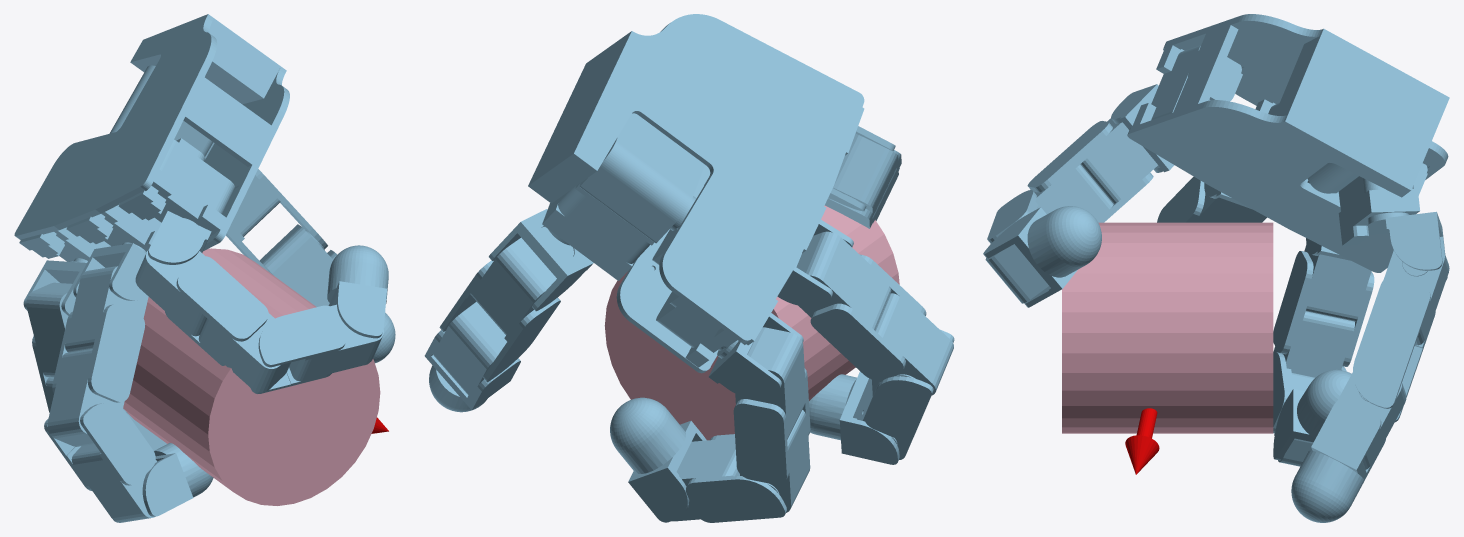
The picture shows the model from 3 angles, left to right: view 1: azimuth 30°, elevation 25°; view 2: azimuth 150°, elevation 25°; view 3: azimuth 270°, elevation 25°; orthographic projection. The views are drawn at different scales.
Parts seen in each view (by area): view 1: world, cylinder_medium.stl; view 2: world, cylinder_medium.stl; view 3: world, cylinder_medium.stl.
Part boxes in pixels (bbox=[...]): world: bbox=[14, 14, 395, 522]; cylinder_medium.stl: bbox=[123, 248, 380, 505]; world: bbox=[424, 14, 954, 522]; cylinder_medium.stl: bbox=[604, 205, 899, 440]; world: bbox=[983, 14, 1449, 522]; cylinder_medium.stl: bbox=[1062, 222, 1273, 433].
Size of the model in its own units: 0.1871 by 0.1947 by 0.1769.
